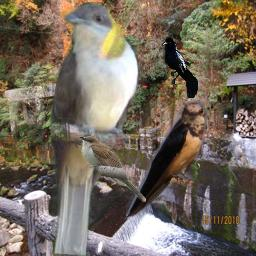Crow: (162, 37, 198, 98)
Cuckoo: (46, 2, 139, 256), (78, 136, 146, 202)
Swallow: (126, 101, 207, 221)
